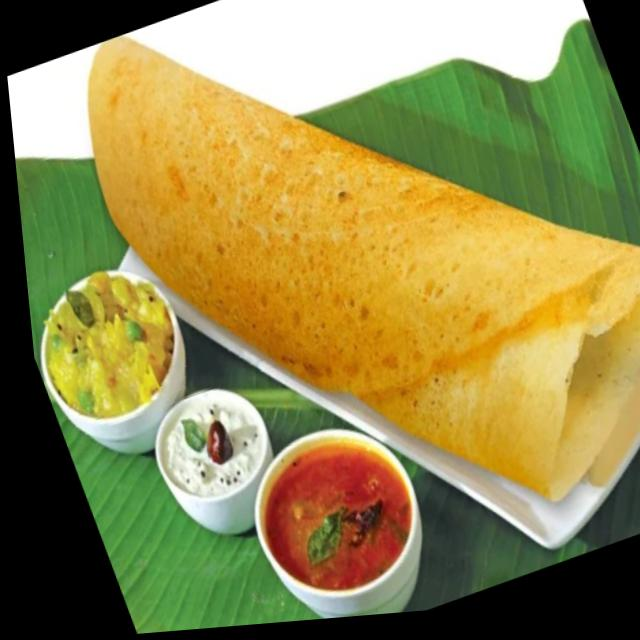DOSA: (86, 36, 640, 502)
RED CHUTNEY: (266, 452, 409, 590)
VEGGIES: (44, 267, 171, 420)
WHITE CHUTNEY: (164, 401, 254, 492)
